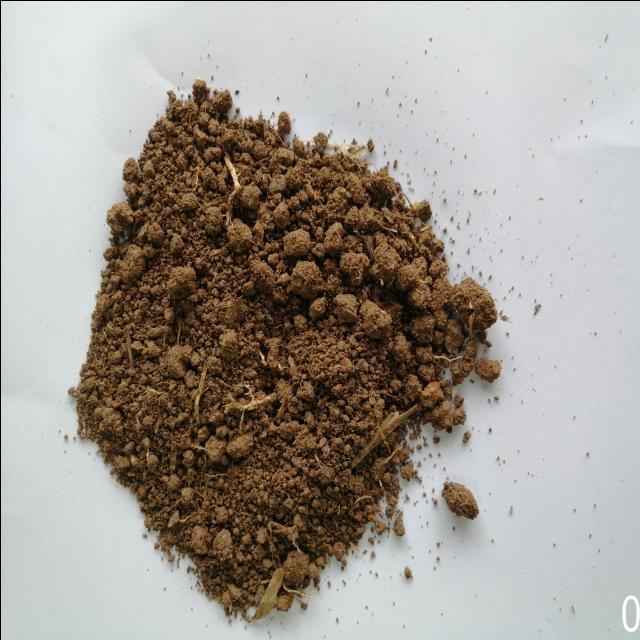soil: (195, 207, 376, 535)
